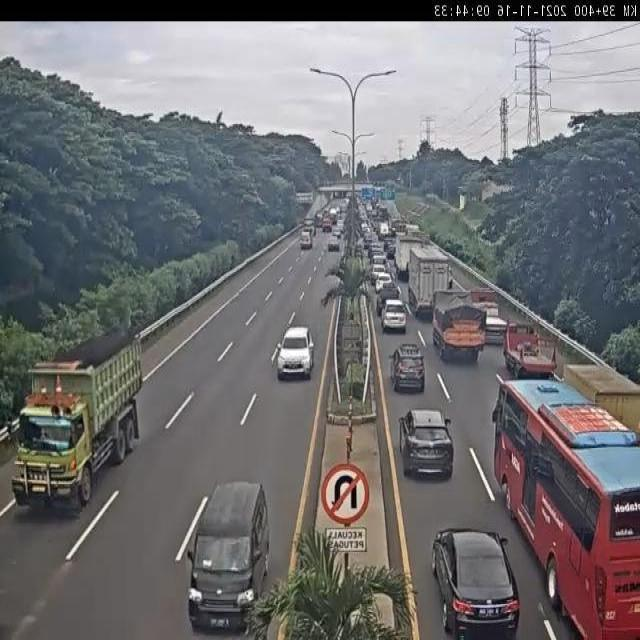Bus: (491, 376, 640, 639)
Car: (432, 527, 520, 638), (397, 408, 456, 482), (276, 329, 316, 382), (389, 342, 425, 394), (379, 300, 409, 332), (375, 270, 393, 292), (370, 264, 386, 283), (299, 232, 312, 250), (327, 237, 339, 251), (332, 229, 341, 239)
Truck: (12, 330, 141, 513), (559, 358, 640, 432), (428, 288, 488, 364), (503, 319, 559, 378), (407, 244, 452, 316), (469, 286, 510, 341), (394, 229, 424, 277), (303, 216, 317, 236)
Van: (186, 482, 270, 634)
